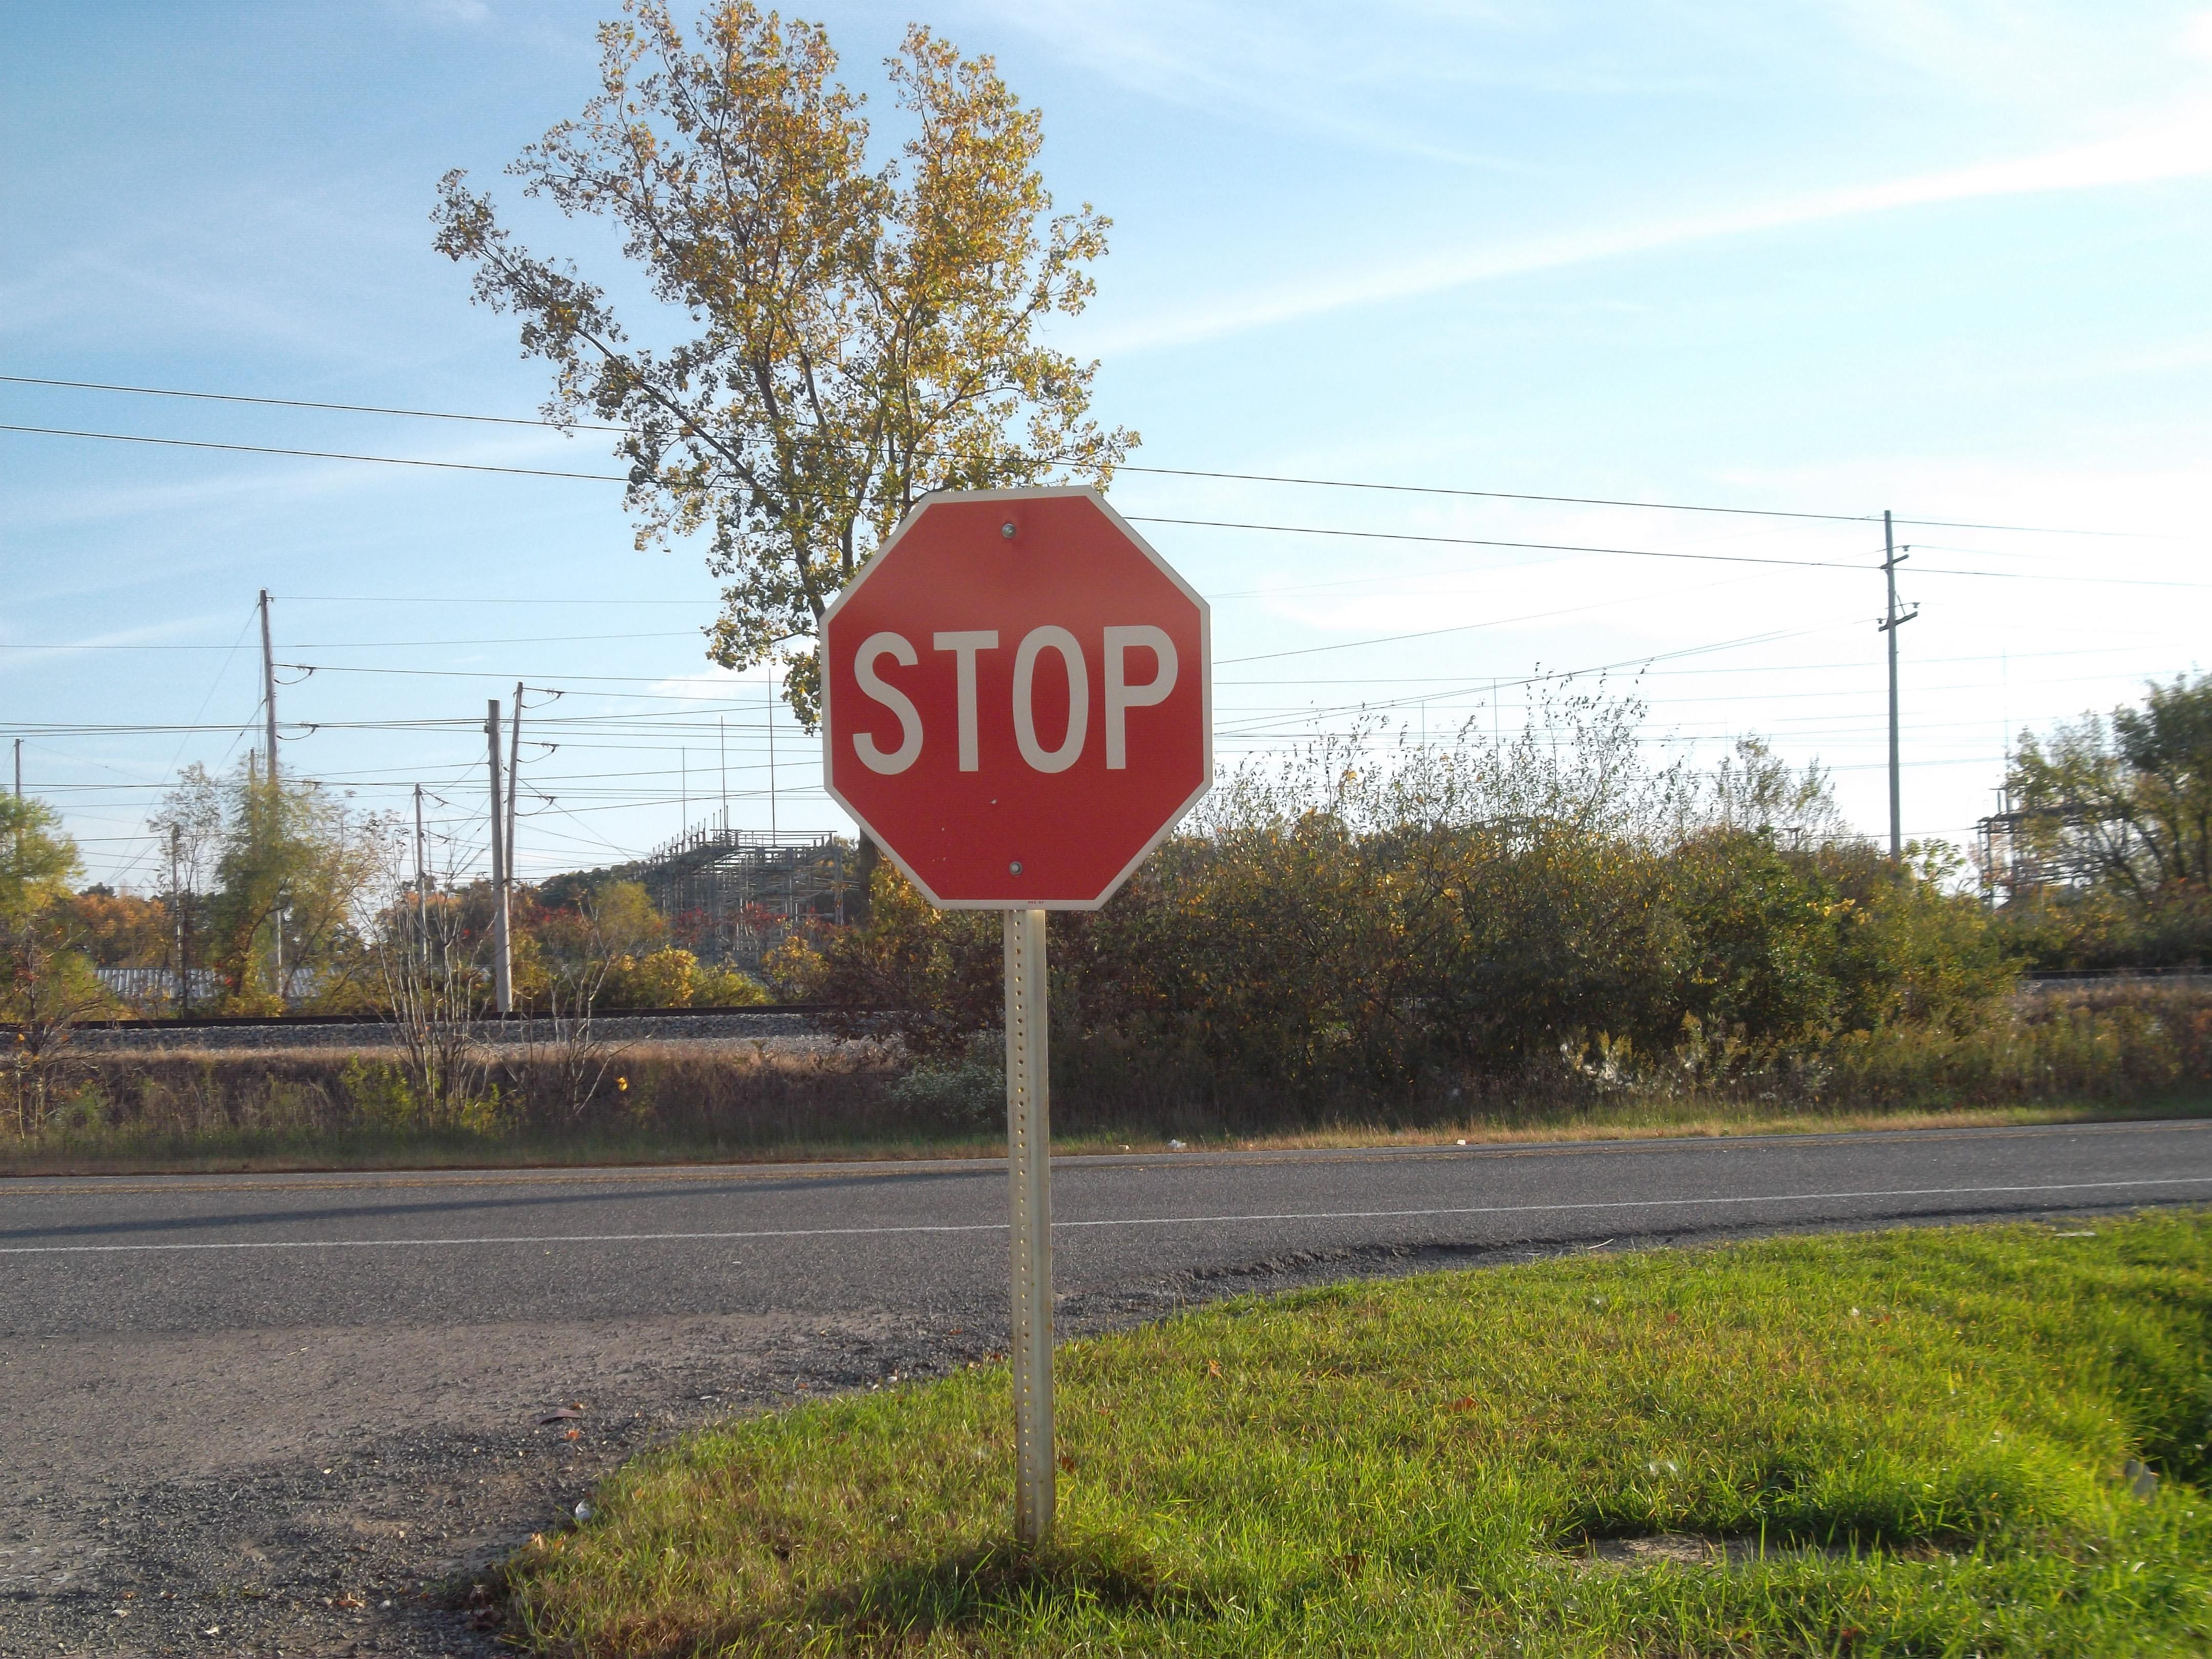stop: (820, 488, 1216, 910)
